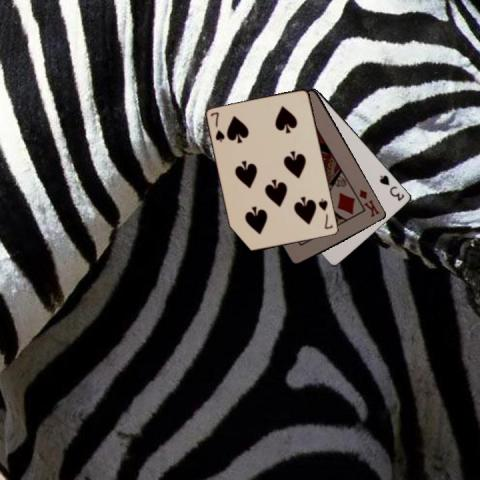3s: (377, 172, 406, 203)
7s: (315, 195, 334, 231), (208, 110, 226, 144)
Kd: (357, 186, 381, 219)
